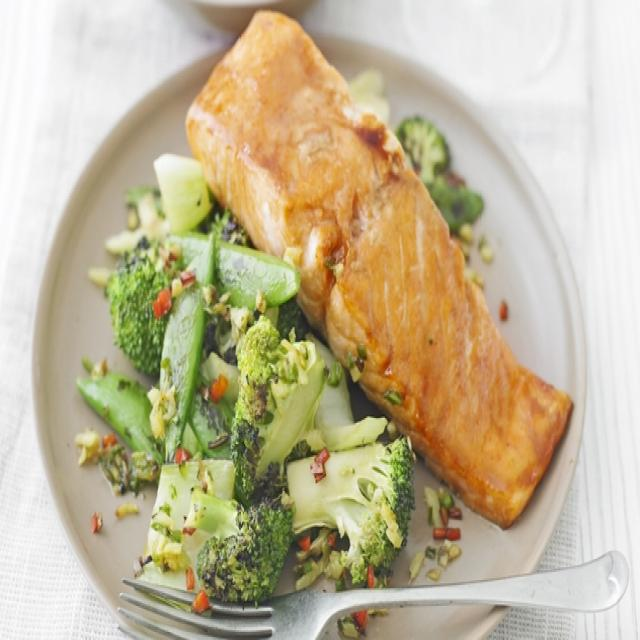熟制海鲜: (38, 0, 584, 632)
